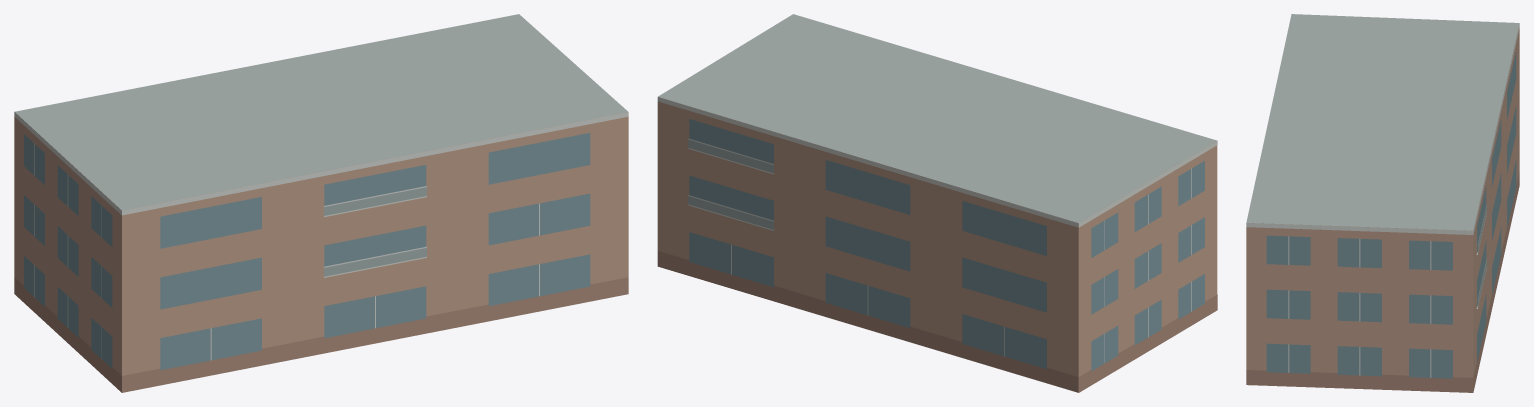
The model's file is survey-upis-32763589.glb.
The picture shows the model from 3 angles, left to right: view 1: azimuth 30°, elevation 25°; view 2: azimuth 150°, elevation 25°; view 3: azimuth 270°, elevation 25°; orthographic projection. The views are drawn at different scales.
Visible parts, largest first — view 1: survey-upis-32763589.tmp; view 2: survey-upis-32763589.tmp; view 3: survey-upis-32763589.tmp.
Boxes of the visible parts, bbox=[...] form: survey-upis-32763589.tmp: bbox=[14, 14, 628, 392]; survey-upis-32763589.tmp: bbox=[657, 14, 1217, 392]; survey-upis-32763589.tmp: bbox=[1246, 14, 1519, 392].
Size of the model in its own units: 26.24 by 9.15 by 13.99.
